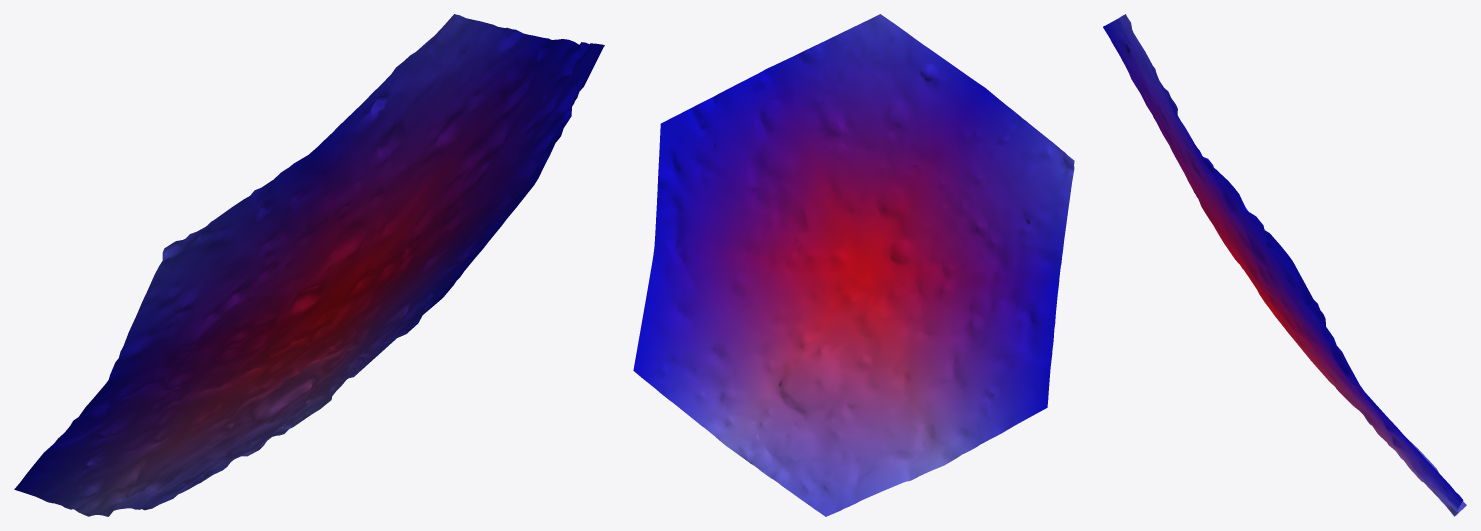
File: Hex_24.fbx
3 views of the same model, side by side, from view 1: azimuth 30°, elevation 25°; view 2: azimuth 150°, elevation 25°; view 3: azimuth 270°, elevation 25° (orthographic). The views are drawn at different scales.
Parts seen in each view (by area): view 1: Hex_24; view 2: Hex_24; view 3: Hex_24.
Boxes of the visible parts, x1,y1,x2,y2 form: Hex_24: (14,14,604,516); Hex_24: (633,14,1074,516); Hex_24: (1103,14,1466,516).
Size of the model in its own units: 459 by 450 by 276.
